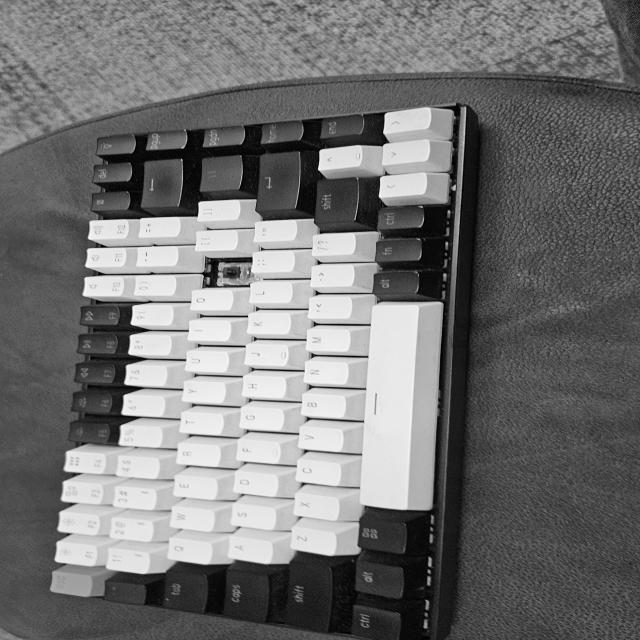C: (213, 261, 251, 282)
